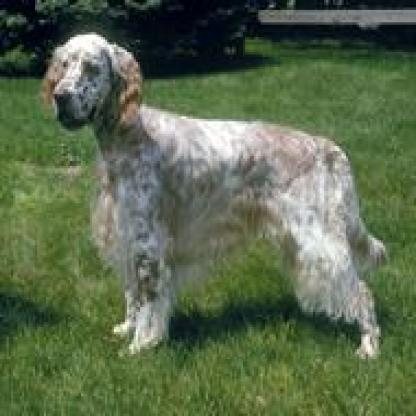English_setter: (35, 29, 388, 362)
